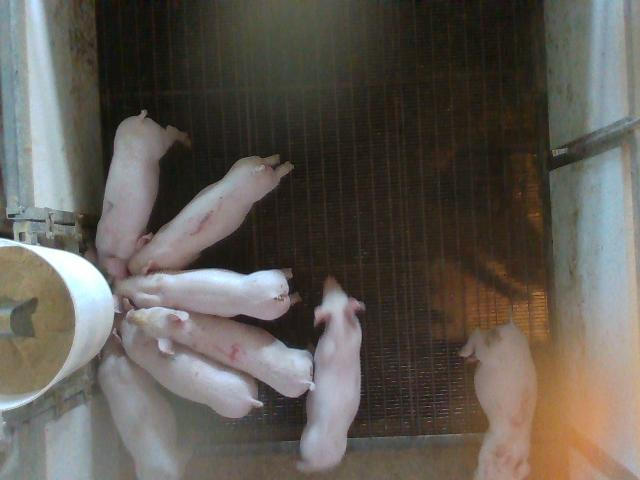pig-1: (129, 155, 294, 275)
pig-3: (460, 320, 538, 478)
pig-4: (126, 308, 314, 397)
